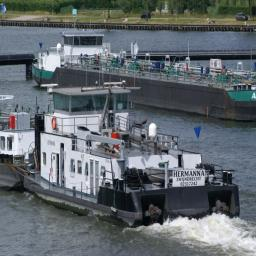tugboat: (23, 80, 243, 235)
